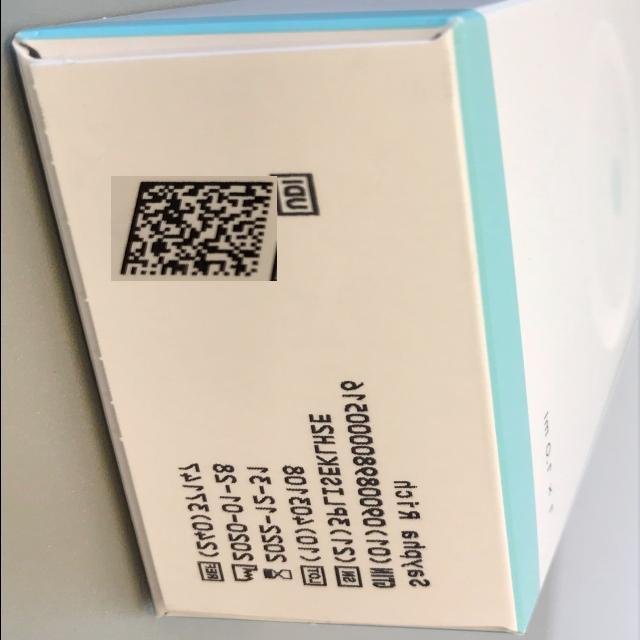Data-Matrix: (110, 176, 276, 281)
